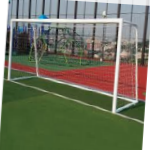goals: (7, 17, 139, 116)
